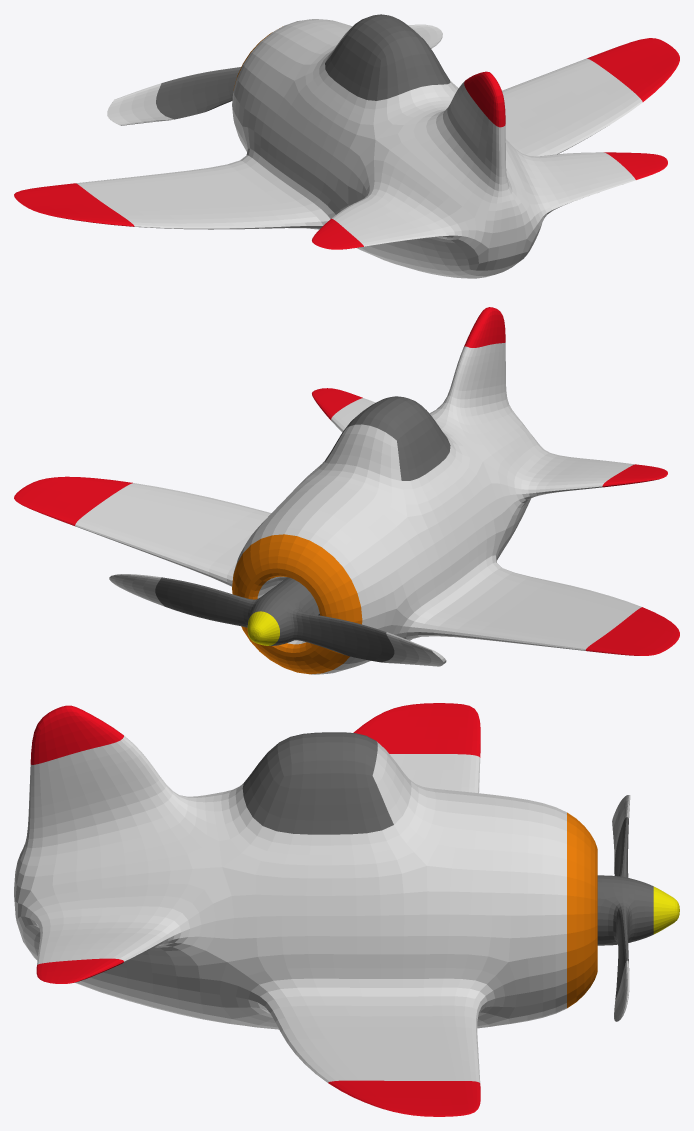
File: enemy_final.glb
3 views of the same model, one above another, from view 1: azimuth 30°, elevation 25°; view 2: azimuth 150°, elevation 25°; view 3: azimuth 270°, elevation 25° (orthographic). The views are drawn at different scales.
Parts seen in each view (by area): view 1: Cylinder, Cylinder.001; view 2: Cylinder, Cylinder.001; view 3: Cylinder, Cylinder.001.
Part boxes in pixels (x1,y1,x2,y2): Cylinder: [14, 14, 679, 278]; Cylinder.001: [107, 24, 442, 125]; Cylinder: [14, 307, 679, 674]; Cylinder.001: [109, 574, 446, 666]; Cylinder: [14, 703, 597, 1116]; Cylinder.001: [597, 795, 679, 1021].
Size of the model in its own units: 6.78 by 2.4 by 4.61.
